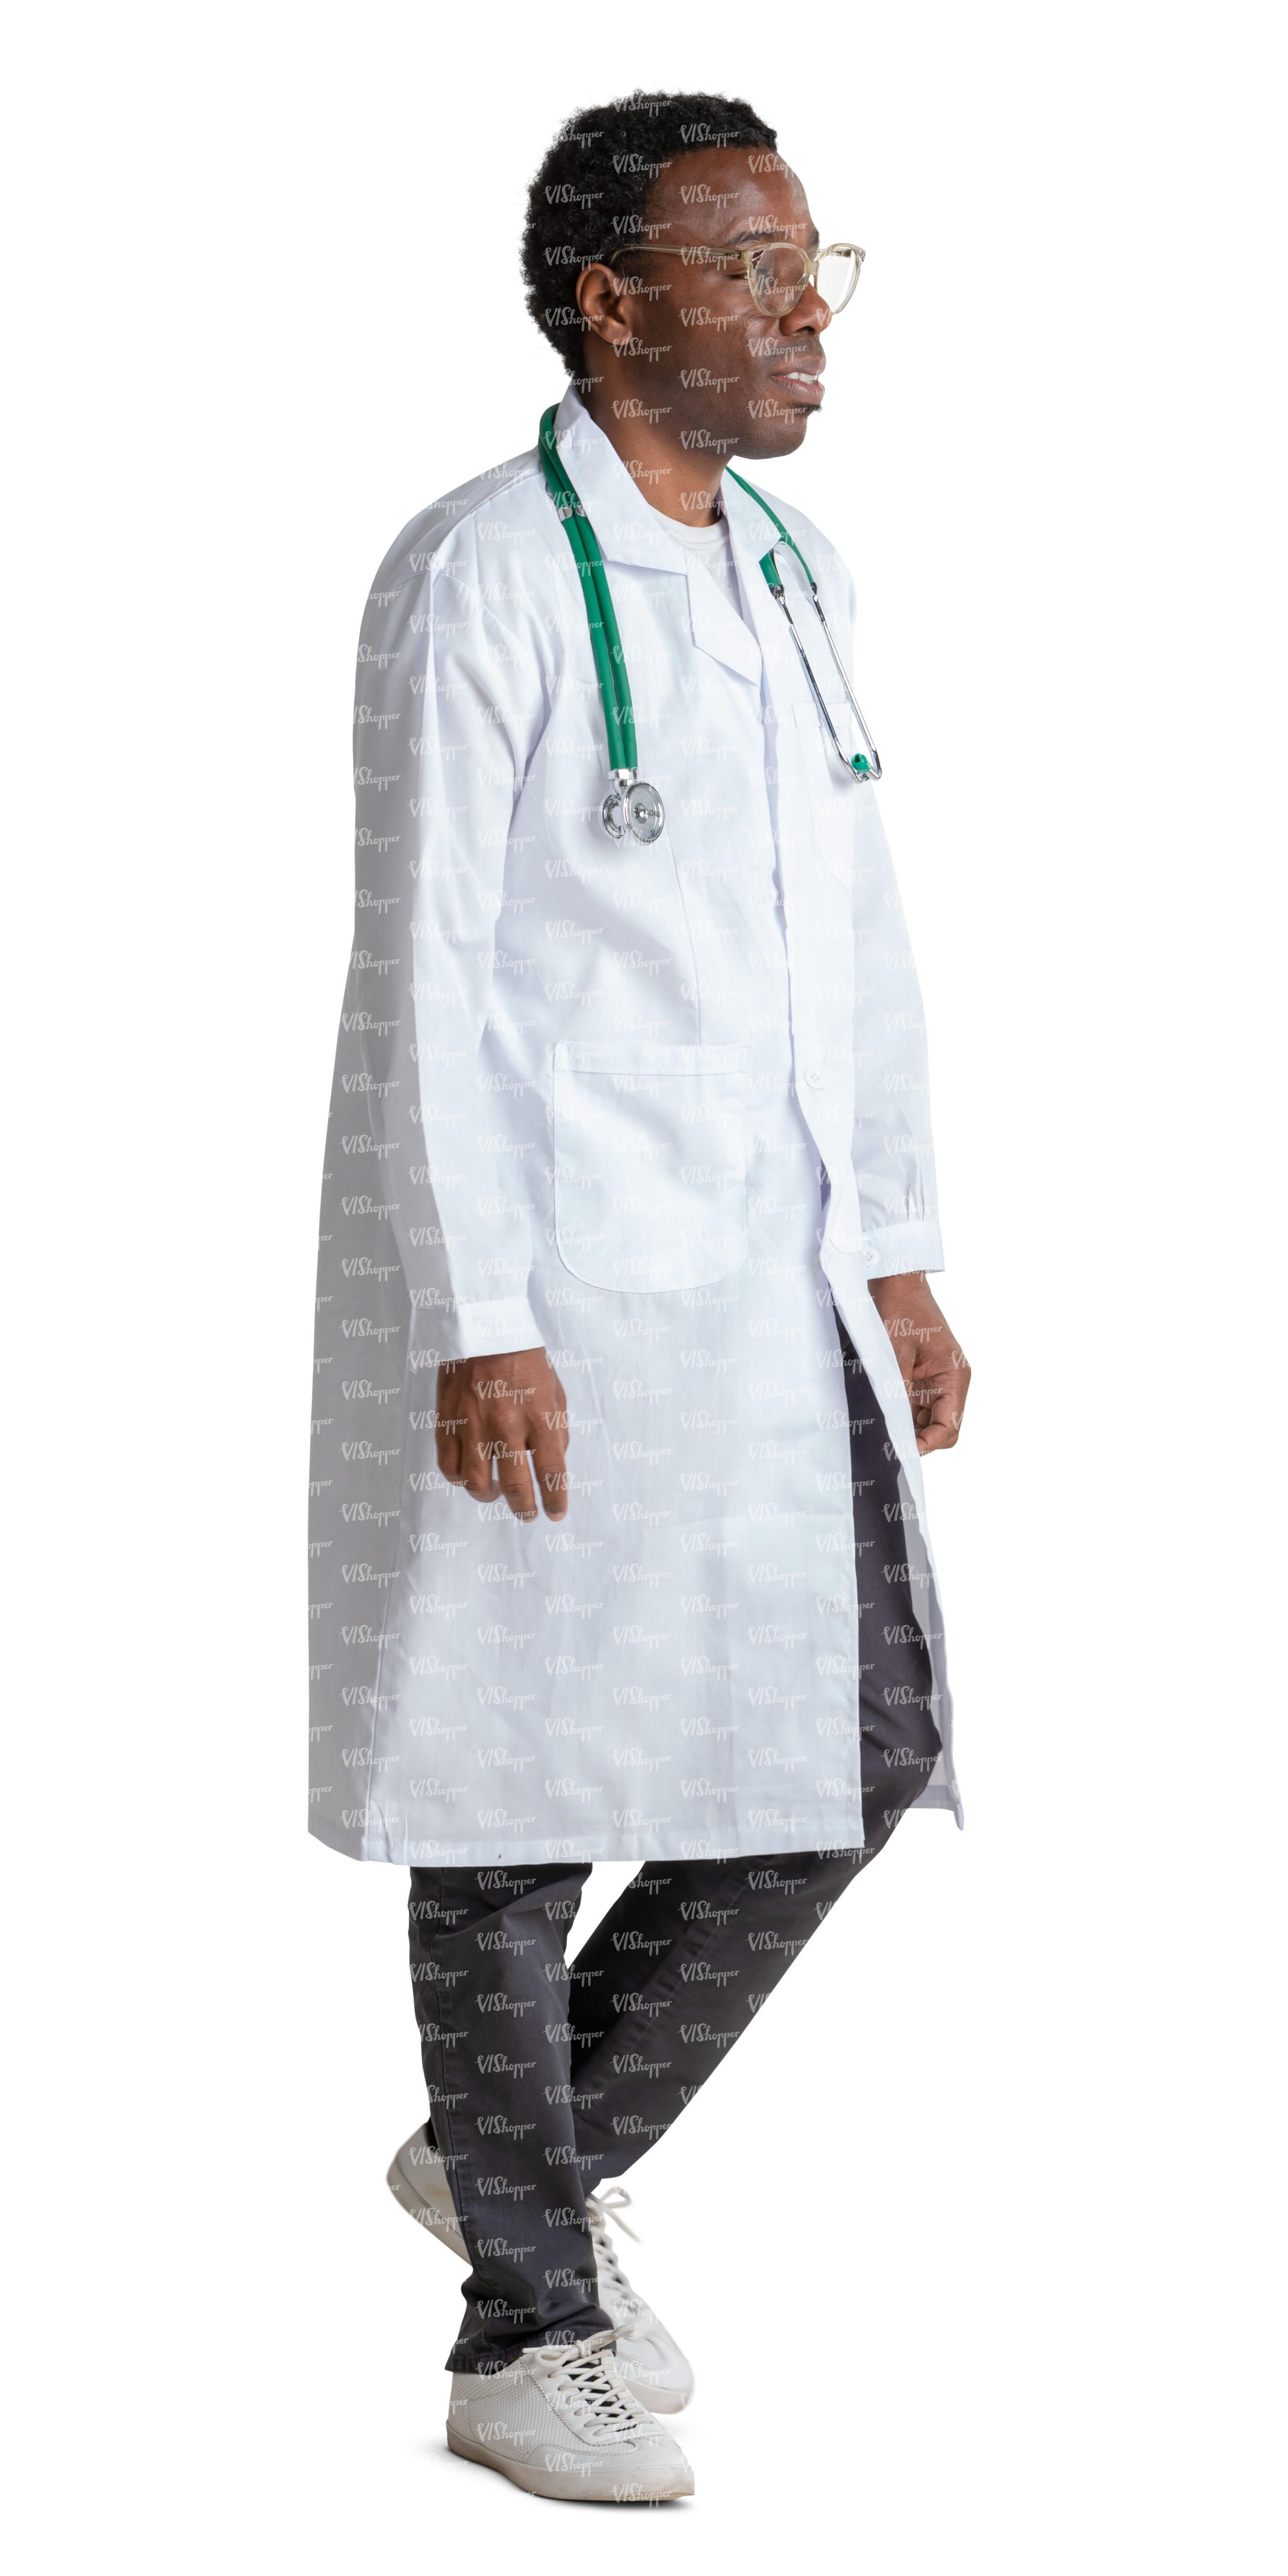hand: (409, 1332, 586, 1529), (854, 1258, 987, 1469)
